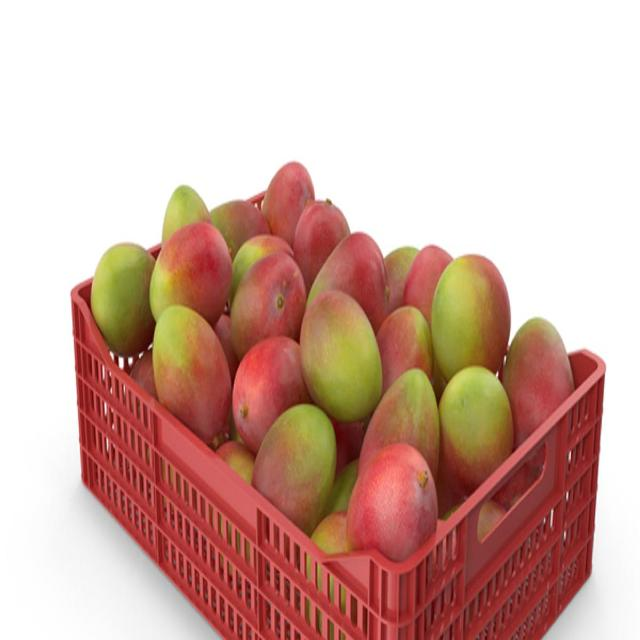basket: (25, 277, 623, 640)
